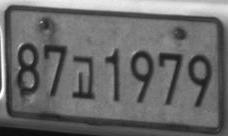1: (101, 47, 126, 101)
7: (157, 52, 183, 106), (42, 44, 67, 97)
8: (15, 41, 39, 93)
9: (187, 53, 212, 108), (129, 49, 154, 103)
고: (71, 55, 96, 98)
